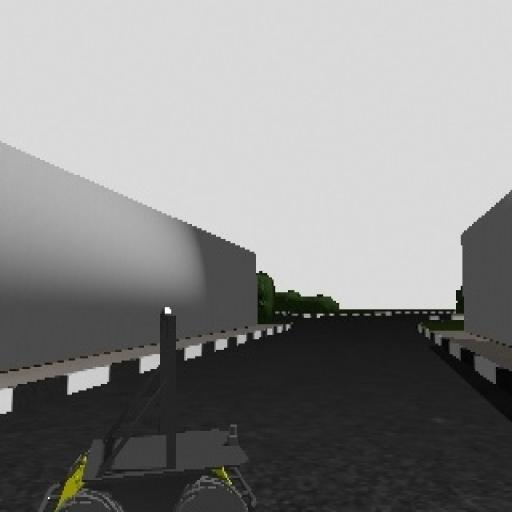huskya200: (27, 294, 268, 512)
